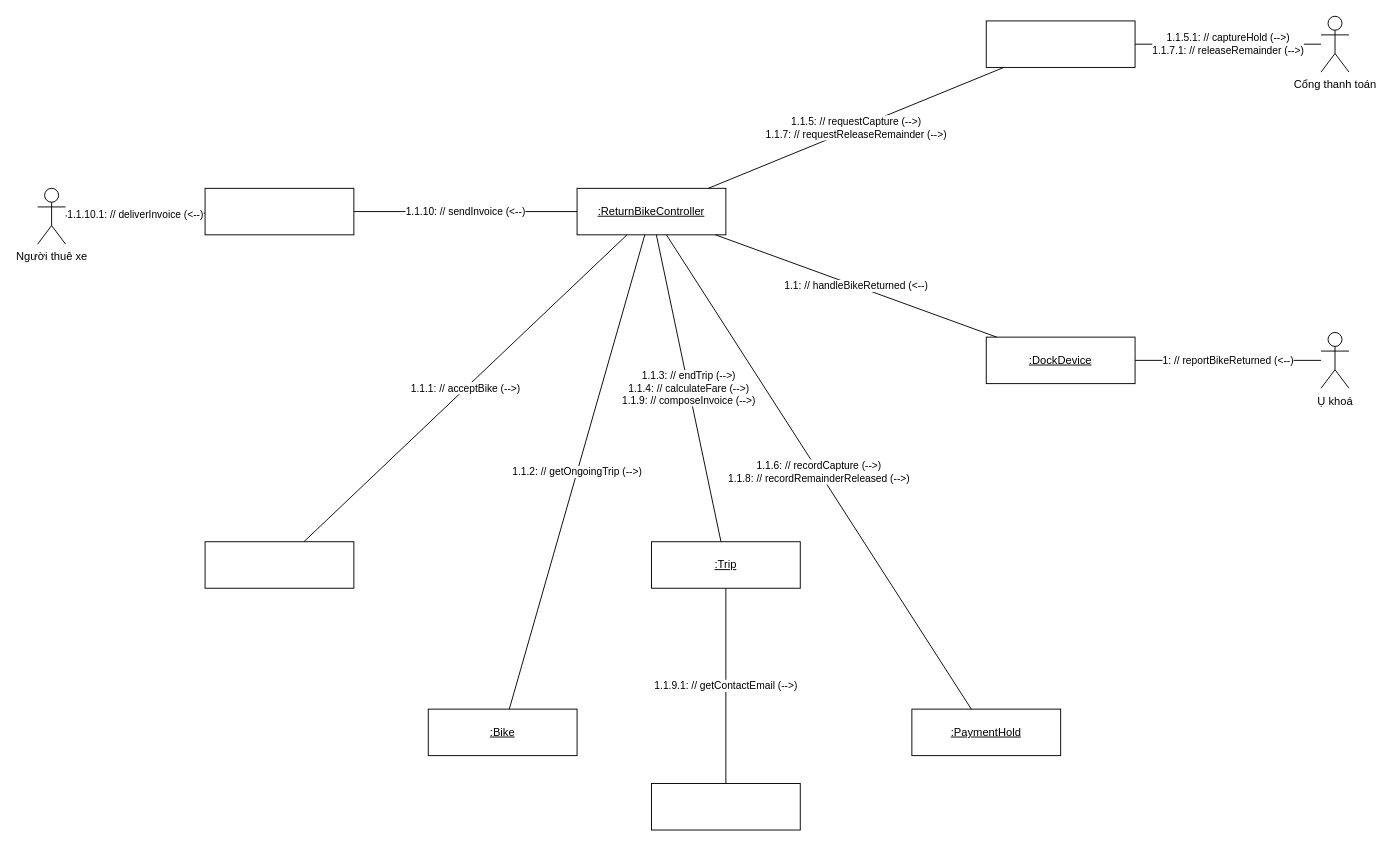
The diagram is 1392 pixels wide and 846 high, and some of its shapes have lost their labels. The shapes that lost their labels are listed below. From the top down, each one's centre as x and y in pixels, then its label:
the point at 1060,43: :PaymentGateway
the point at 279,211: :ReturnBikeForm
the point at 279,564: :Dock
the point at 725,806: :RiderAccount
